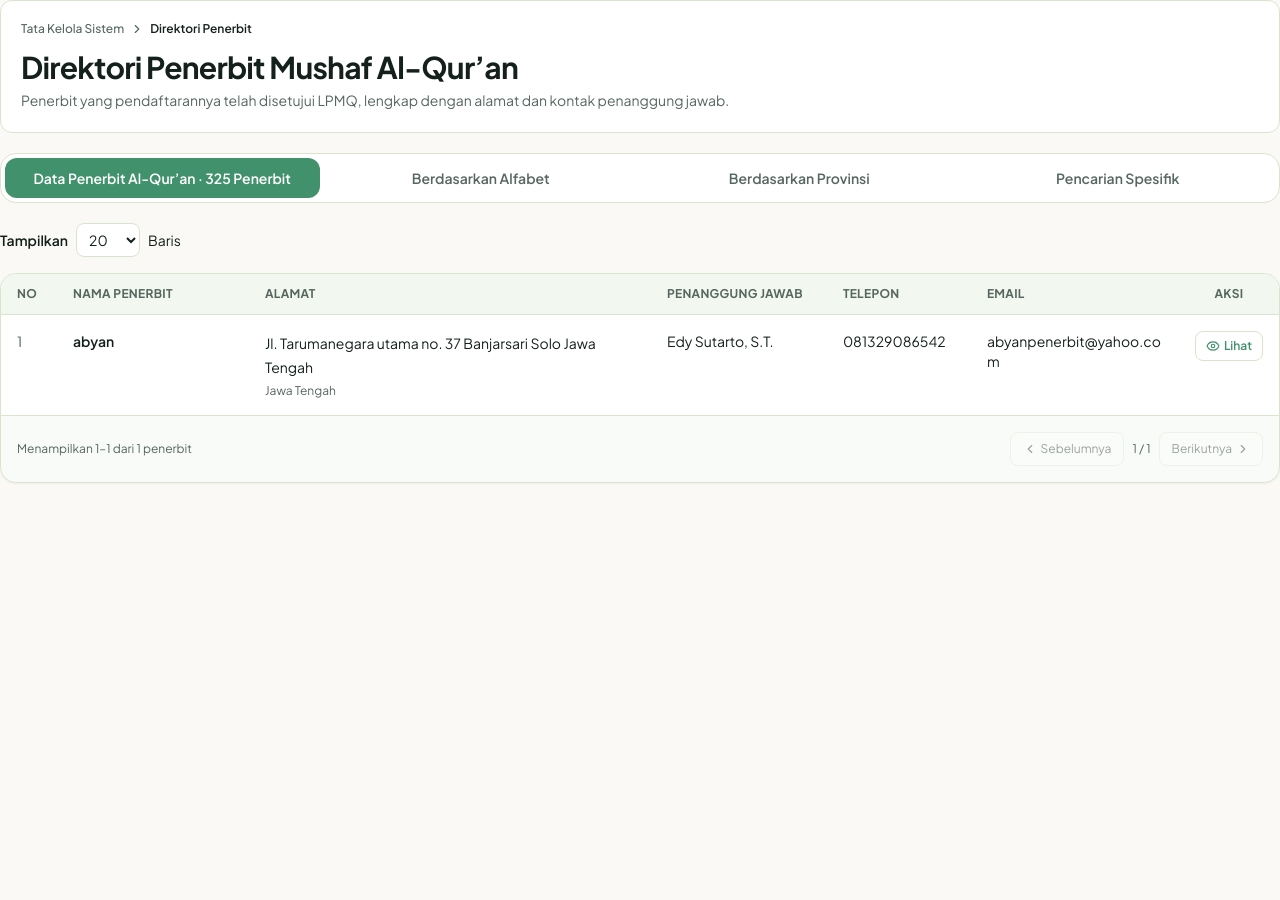
Test case: PublisherDirectoryPage › tombol Lihat membuka detail lengkap termasuk nomor induk dan NPWP
Step 1. Click the button with aria-label "Lihat detail abyan" → x=1229, y=346, box [1195, 331, 1263, 361]
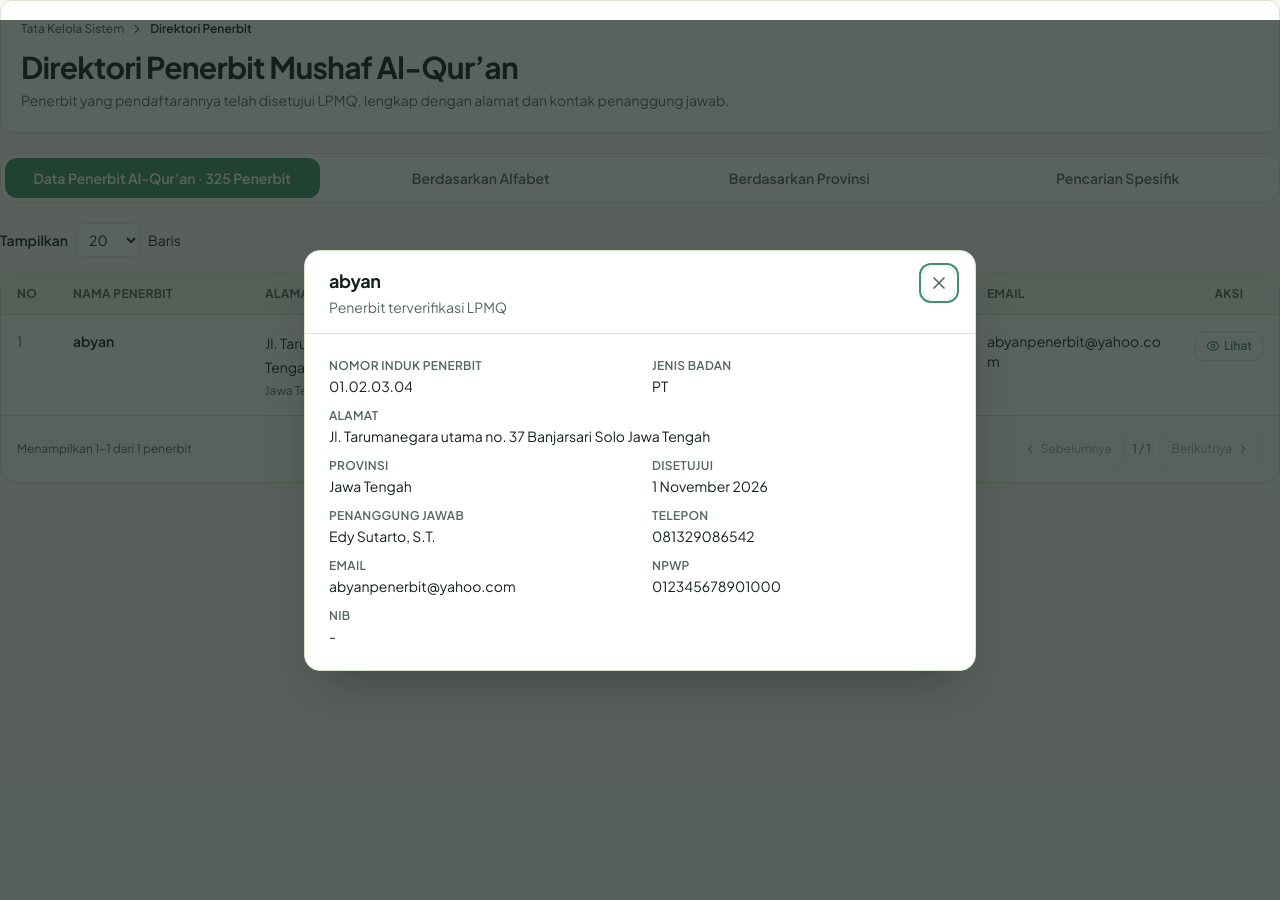
expect the text "01.02.03.04" is shown: met, box [329, 376, 413, 394]
expect the text "012345678901000" is shown: met, box [652, 576, 781, 594]
